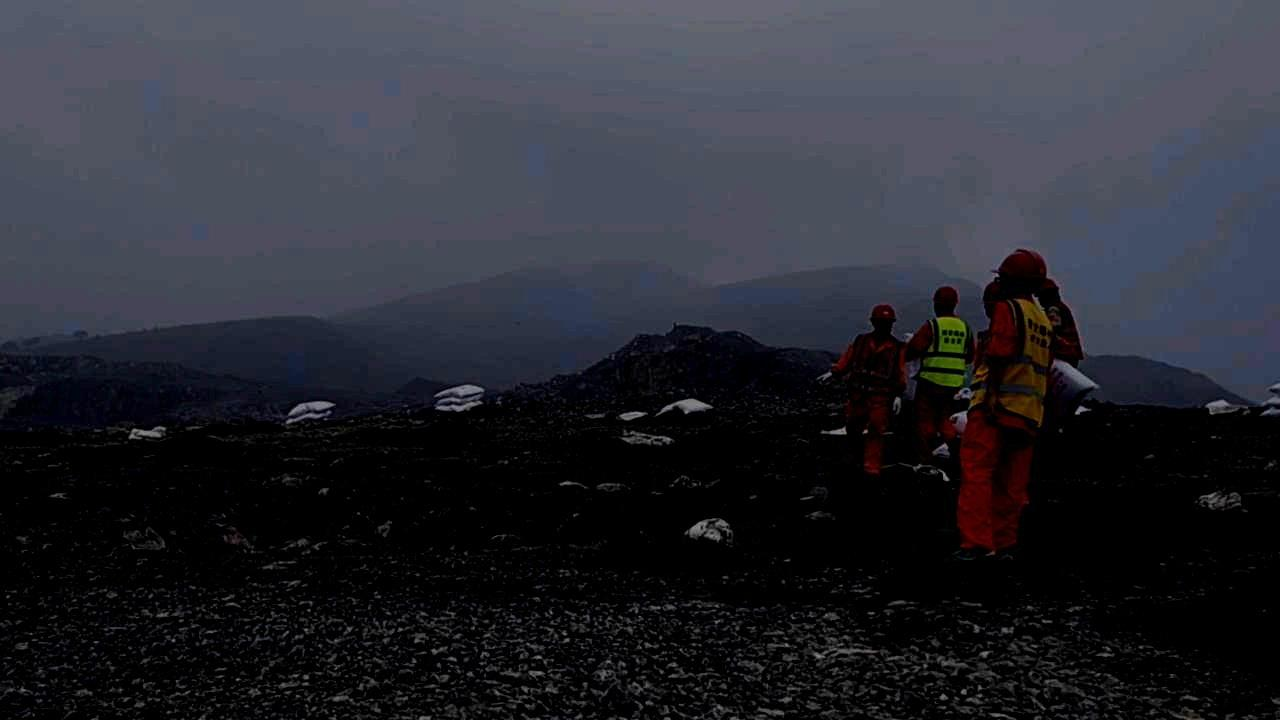helmet: (990, 247, 1048, 299), (869, 304, 897, 336), (932, 285, 959, 318), (1034, 279, 1062, 309)
